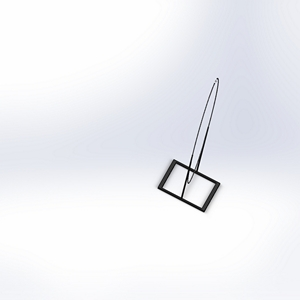circle: (156, 75, 224, 212)
